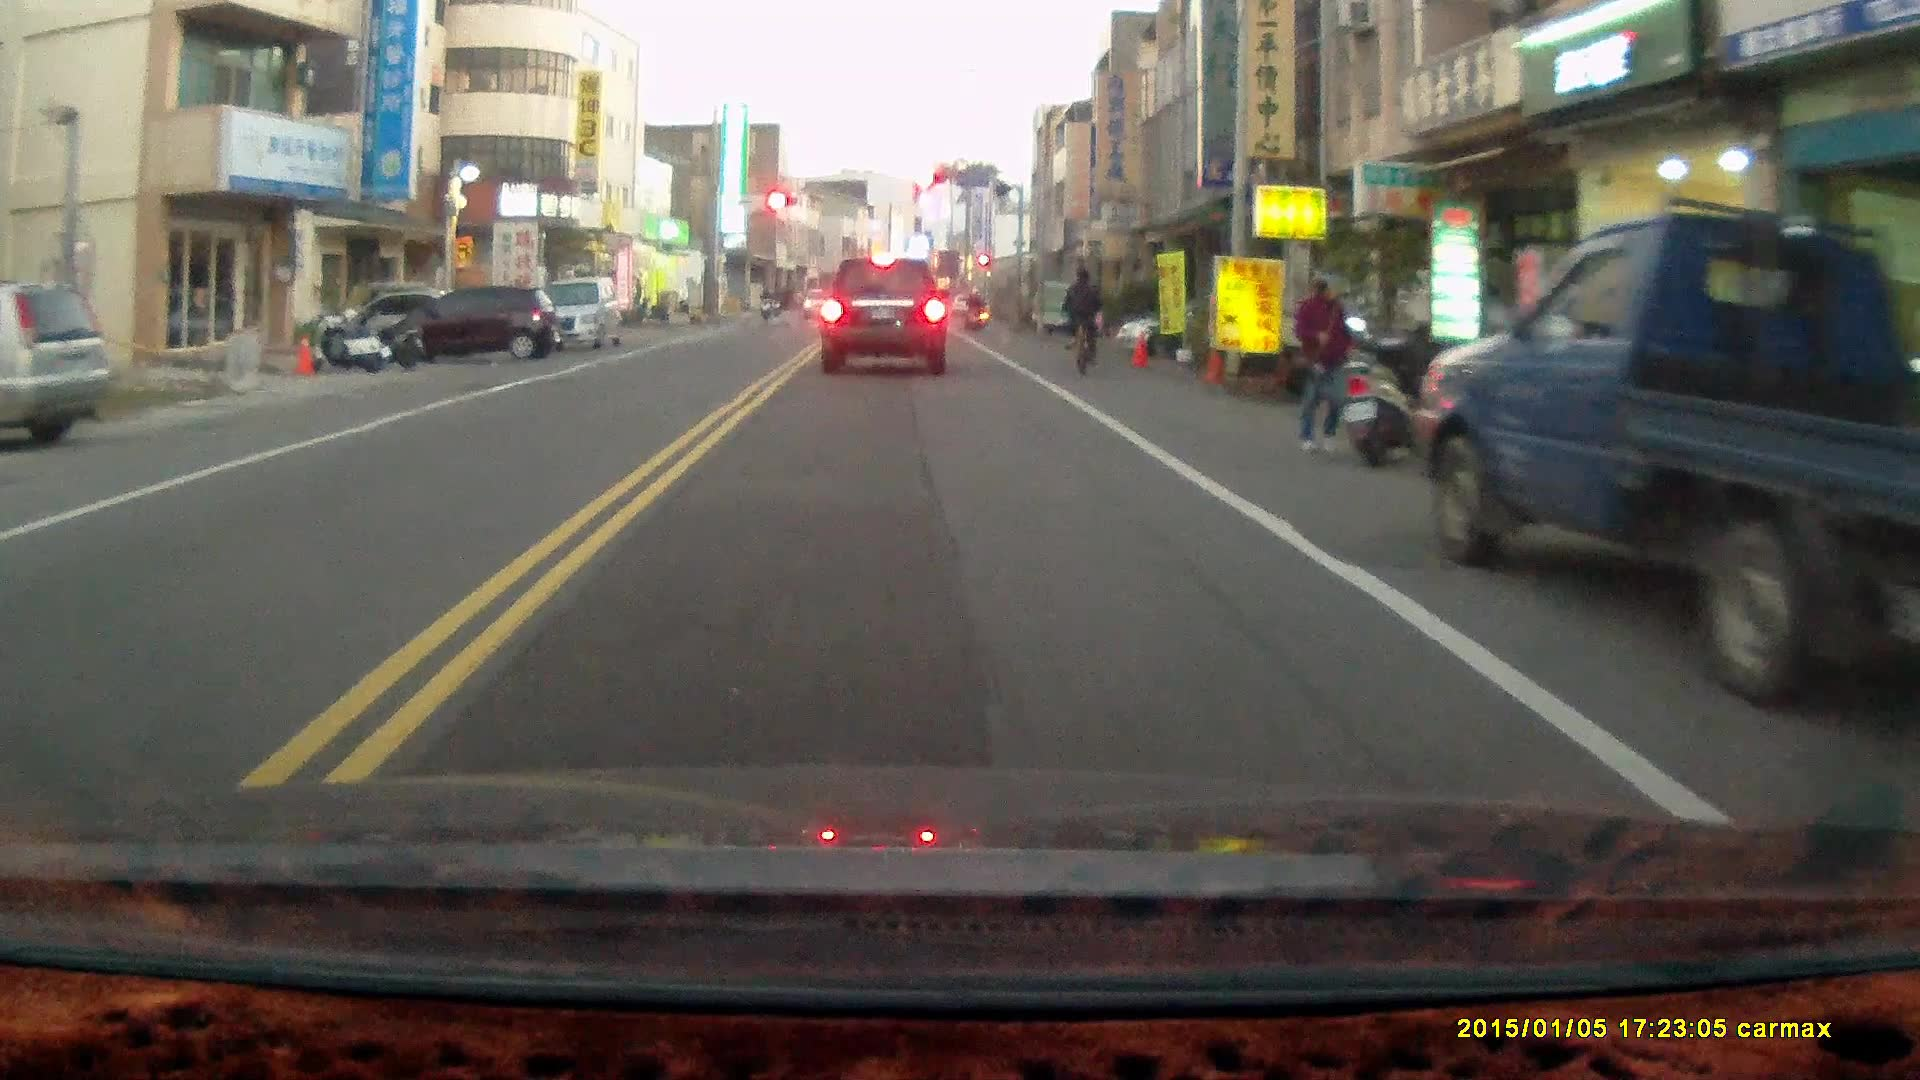pedestrian: (1294, 273, 1353, 457)
rider: (1060, 264, 1103, 379)
vehicle: (1427, 211, 1920, 708), (1, 278, 112, 447), (821, 256, 950, 378), (384, 284, 562, 370), (527, 270, 625, 355)
